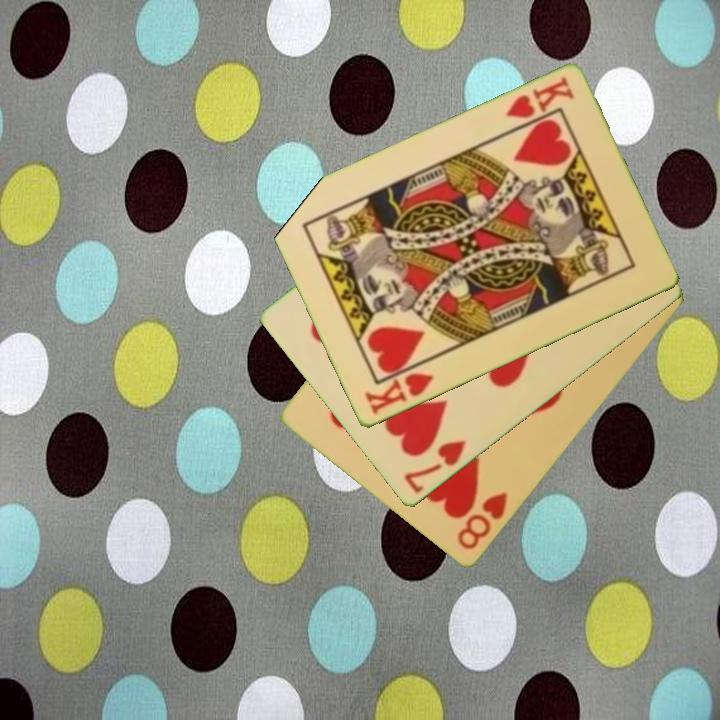7h: (400, 437, 469, 497)
8h: (453, 489, 511, 554)
Kh: (361, 358, 436, 418), (502, 73, 577, 122)
